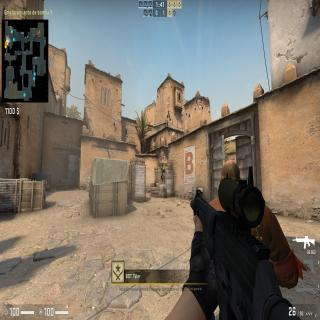CT-Head: (162, 162, 164, 166)
T-Head: (221, 160, 241, 180)
